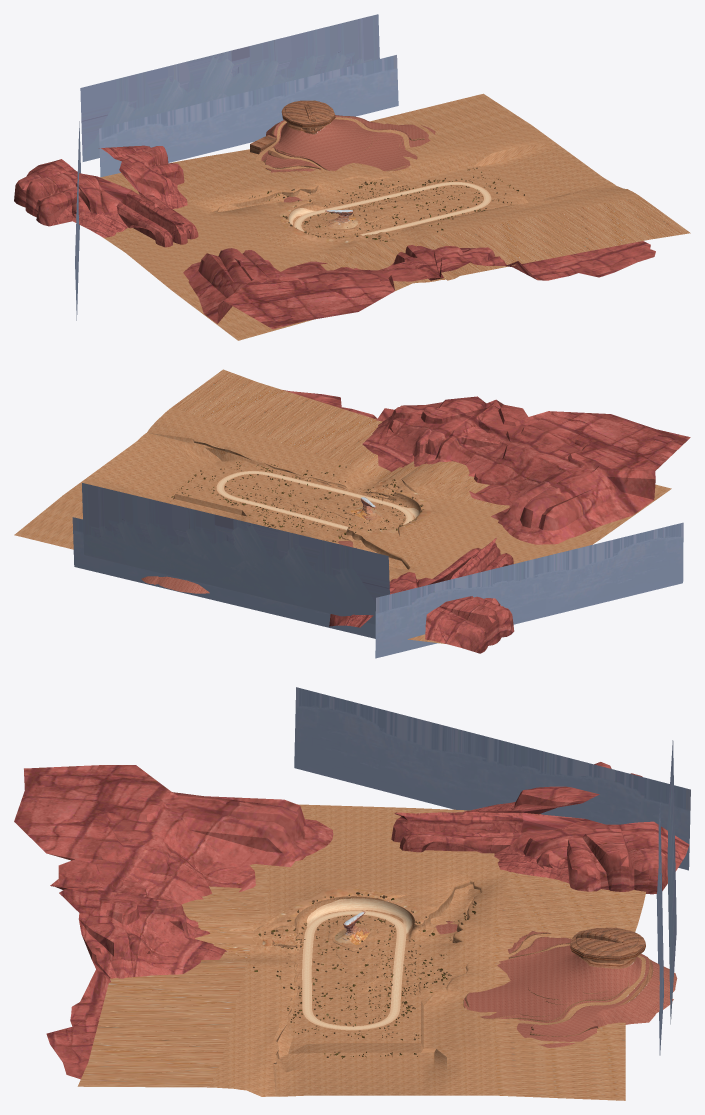
File: model-arena.glb
The picture shows the model from 3 angles, top to bottom: view 1: azimuth 30°, elevation 25°; view 2: azimuth 150°, elevation 25°; view 3: azimuth 270°, elevation 25°; orthographic projection. The views are drawn at different scales.
Parts seen in each view (by area): view 1: Object_6, Object_13, Object_3, Object_4, Object_7, Object_12, Object_8, Object_15, Object_14, Object_2; view 2: Object_6, Object_13, Object_3, Object_2, Object_4, Object_8, Object_15, Object_7; view 3: Object_6, Object_13, Object_2, Object_7, Object_12, Object_8, Object_15, Object_3, Object_11, Object_4, Object_14.
Part boxes in pixels (x1,y1,x2,y2): Object_6: (100,93,690,340); Object_13: (14,145,655,329); Object_3: (80,14,379,161); Object_4: (99,55,398,177); Object_7: (259,115,435,202); Object_12: (250,100,424,171); Object_8: (294,182,491,235); Object_15: (249,167,517,241); Object_14: (256,117,410,169); Object_2: (75,121,81,320); Object_6: (14,369,671,643); Object_13: (283,390,690,653); Object_3: (82,483,389,624); Object_2: (375,522,683,658); Object_4: (72,517,375,638); Object_8: (216,471,413,529); Object_15: (181,462,423,541); Object_7: (141,541,356,593); Object_6: (77,804,645,1100); Object_13: (14,762,689,1079); Object_2: (294,687,690,870); Object_7: (435,921,677,1047); Object_12: (442,921,653,1036); Object_8: (302,910,406,1030); Object_15: (253,892,476,1058); Object_3: (667,740,676,1024); Object_11: (306,898,412,933); Object_4: (656,803,663,1055); Object_14: (509,934,645,1024).
Bounding box in the file's own units: 33.96 × 5.92 × 27.98.
Materials: 14 (14 with a texture image).
